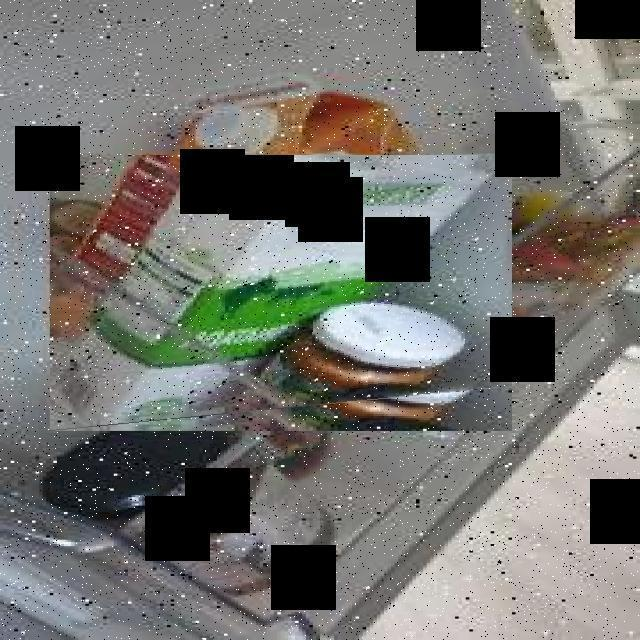milk: (50, 155, 512, 432)
